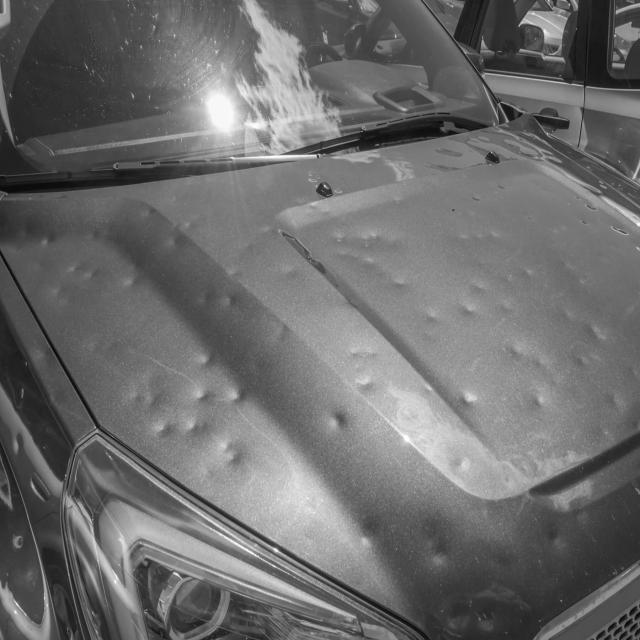dent: (0, 110, 640, 640)
